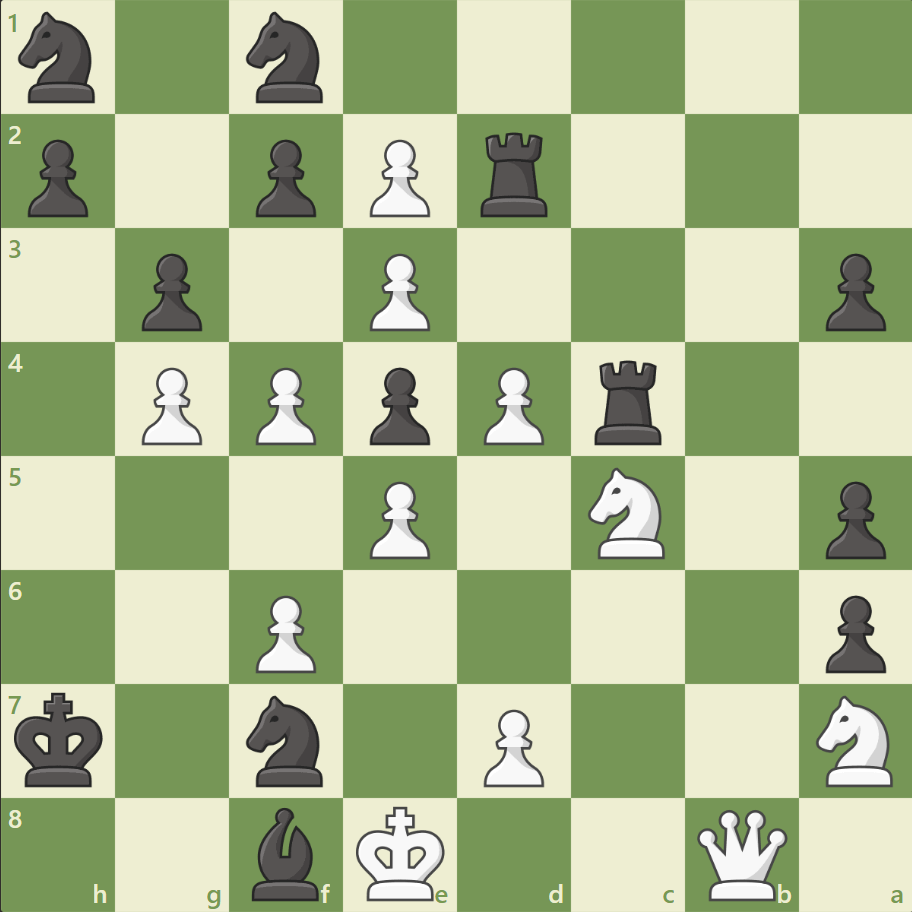K: (351, 798, 451, 906)
N: (806, 688, 903, 791), (579, 461, 676, 564)
P: (474, 700, 549, 791), (247, 586, 322, 677), (474, 359, 549, 450), (247, 359, 322, 450), (133, 359, 208, 450), (361, 473, 435, 564), (361, 246, 435, 337), (361, 132, 435, 223)
Q: (691, 804, 790, 903)
b: (244, 801, 328, 904)
k: (11, 685, 111, 793)
n: (238, 688, 335, 791), (238, 7, 335, 110), (11, 7, 108, 110)
p: (133, 246, 208, 337), (247, 132, 322, 223), (20, 132, 95, 223), (815, 586, 889, 677), (815, 473, 889, 564), (361, 359, 435, 450), (815, 246, 889, 337)
r: (587, 352, 670, 449), (473, 125, 556, 222)
